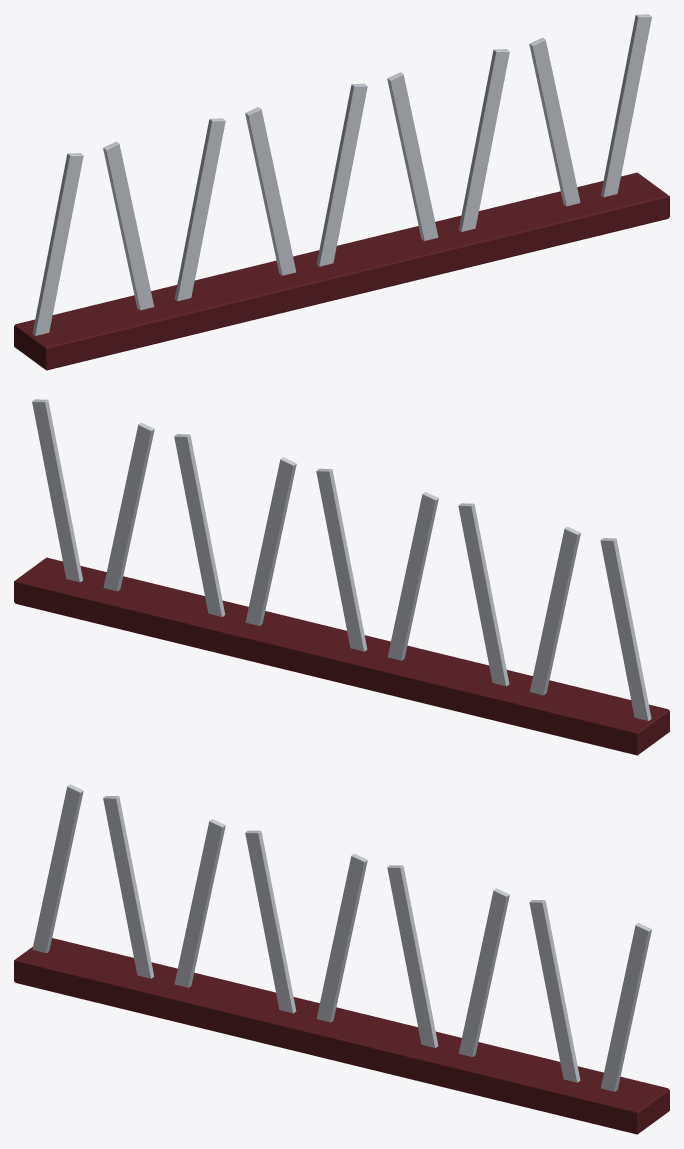
The model's file is blade_fence.glb.
The picture shows the model from 3 angles, top to bottom: view 1: azimuth 30°, elevation 25°; view 2: azimuth 150°, elevation 25°; view 3: azimuth 330°, elevation 25°; orthographic projection.
Visible parts, largest first — view 1: rail, blade_2, blade_8, blade_0, blade_4, blade_6, blade_1, blade_3, blade_5, blade_7; view 2: rail, blade_2, blade_8, blade_0, blade_4, blade_6, blade_1, blade_3, blade_5, blade_7; view 3: rail, blade_3, blade_5, blade_1, blade_7, blade_2, blade_0, blade_4, blade_6, blade_8.
Boxes of the visible parts, bbox=[...] form: rail: bbox=[14, 172, 669, 370]; blade_2: bbox=[174, 118, 225, 301]; blade_8: bbox=[601, 14, 651, 197]; blade_0: bbox=[32, 153, 83, 335]; blade_4: bbox=[316, 83, 367, 266]; blade_6: bbox=[458, 49, 509, 231]; blade_1: bbox=[103, 141, 154, 310]; blade_3: bbox=[245, 107, 296, 275]; blade_5: bbox=[387, 72, 438, 240]; blade_7: bbox=[529, 37, 580, 206]; rail: bbox=[14, 557, 669, 755]; blade_2: bbox=[458, 503, 509, 686]; blade_8: bbox=[32, 399, 82, 582]; blade_0: bbox=[600, 538, 651, 720]; blade_4: bbox=[316, 468, 367, 651]; blade_6: bbox=[174, 434, 225, 616]; blade_1: bbox=[529, 526, 580, 695]; blade_3: bbox=[387, 492, 438, 660]; blade_5: bbox=[245, 457, 296, 625]; blade_7: bbox=[103, 422, 154, 591]; rail: bbox=[14, 938, 669, 1134]; blade_3: bbox=[245, 830, 296, 1013]; blade_5: bbox=[387, 865, 438, 1047]; blade_1: bbox=[103, 795, 154, 978]; blade_7: bbox=[529, 900, 580, 1082]; blade_2: bbox=[174, 819, 225, 987]; blade_0: bbox=[32, 784, 83, 952]; blade_4: bbox=[316, 853, 367, 1022]; blade_6: bbox=[458, 888, 509, 1056]; blade_8: bbox=[601, 923, 651, 1091].
Bounding box in the file's own units: 2.2 × 0.6581 × 0.2.
